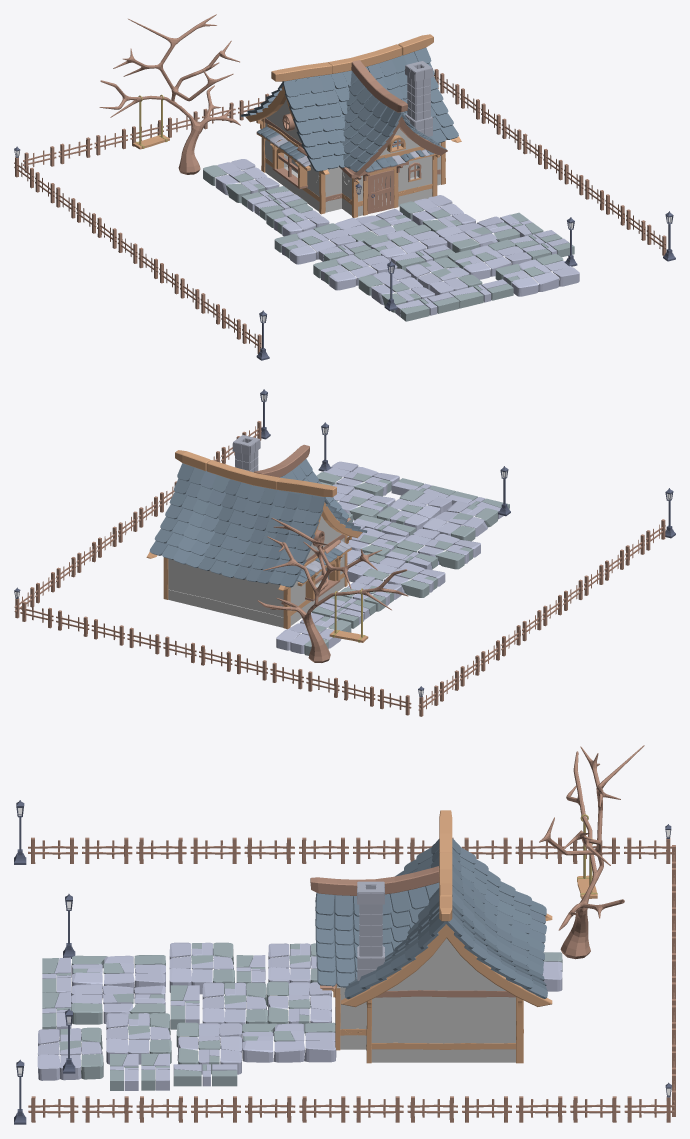
Rendered from coloredSceneFinal.glb.
The picture shows the model from 3 angles, top to bottom: view 1: azimuth 30°, elevation 25°; view 2: azimuth 150°, elevation 25°; view 3: azimuth 270°, elevation 25°; orthographic projection. The views are drawn at different scales.
Parts seen in each view (by area): view 1: Cube.071, Plane.032, Cube.063, Cube.036, Cube.061, Cube.064, Cube.148, Cube.083; view 2: Plane.032, Cube.071, Cube.064, Cube.063, Cube.036, Cube.061, Cube.083, swing; view 3: Plane.032, Cube.071, Cube.061, Cube.063, Cube.036, Cube.064, Cube.083.
Part boxes in pixels (x1=…): Cube.071: x1=203, y1=159, x2=579, y2=321; Plane.032: x1=240, y1=34, x2=461, y2=217; Cube.063: x1=14, y1=157, x2=261, y2=353; Cube.036: x1=99, y1=14, x2=240, y2=174; Cube.061: x1=434, y1=69, x2=666, y2=255; Cube.064: x1=23, y1=93, x2=269, y2=172; Cube.148: x1=367, y1=170, x2=393, y2=213; Cube.083: x1=256, y1=224, x2=675, y2=360; Plane.032: x1=146, y1=435, x2=367, y2=629; Cube.071: x1=276, y1=461, x2=509, y2=655; Cube.064: x1=20, y1=601, x2=411, y2=715; Cube.063: x1=418, y1=519, x2=665, y2=716; Cube.036: x1=257, y1=518, x2=408, y2=662; Cube.061: x1=14, y1=421, x2=261, y2=618; Cube.083: x1=261, y1=402, x2=675, y2=538; swing: x1=329, y1=588, x2=368, y2=642; Plane.032: x1=310, y1=810, x2=552, y2=1063; Cube.071: x1=37, y1=942, x2=562, y2=1090; Cube.061: x1=28, y1=1096, x2=674, y2=1122; Cube.063: x1=28, y1=837, x2=671, y2=863; Cube.036: x1=539, y1=745, x2=644, y2=959; Cube.064: x1=672, y1=845, x2=675, y2=1116; Cube.083: x1=14, y1=817, x2=75, y2=1124.
Bounding box in the file's own units: 20.34 × 6.97 × 21.47.
